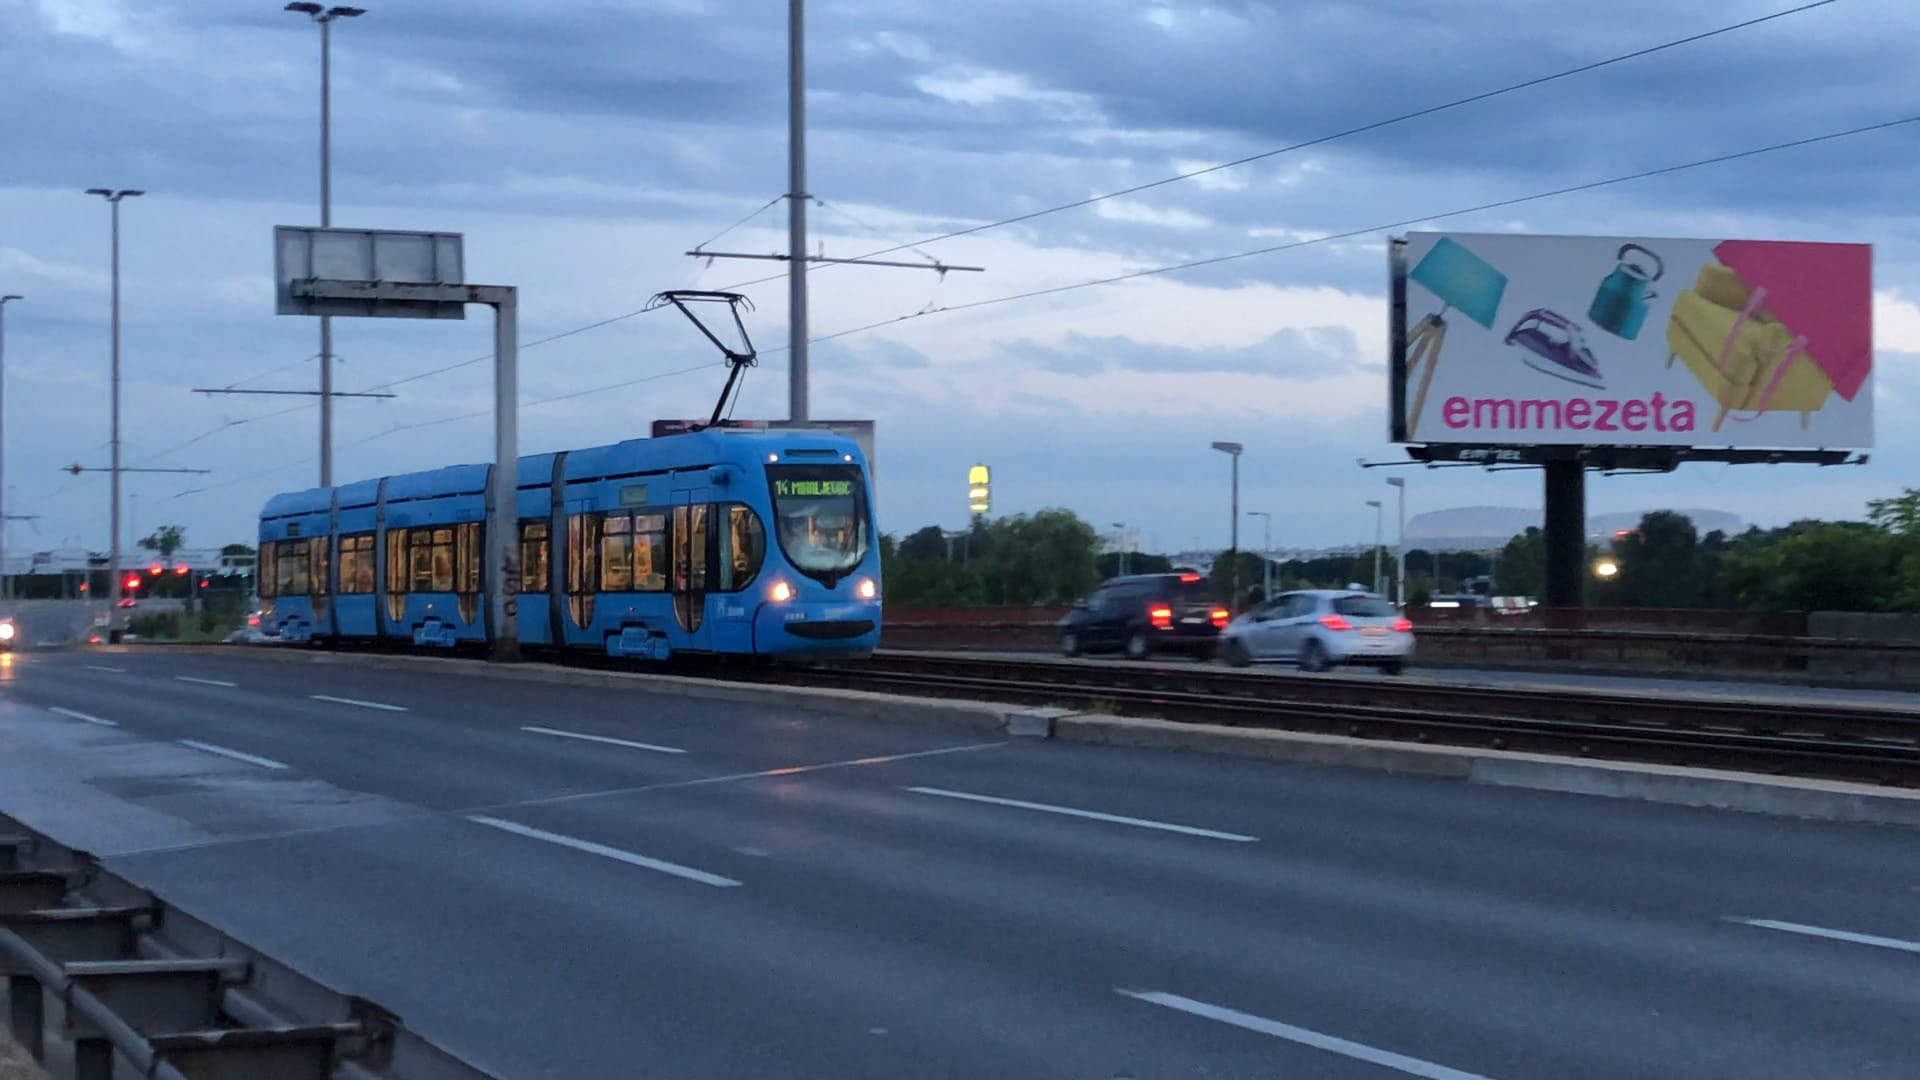tramvaj: (247, 418, 895, 671)
